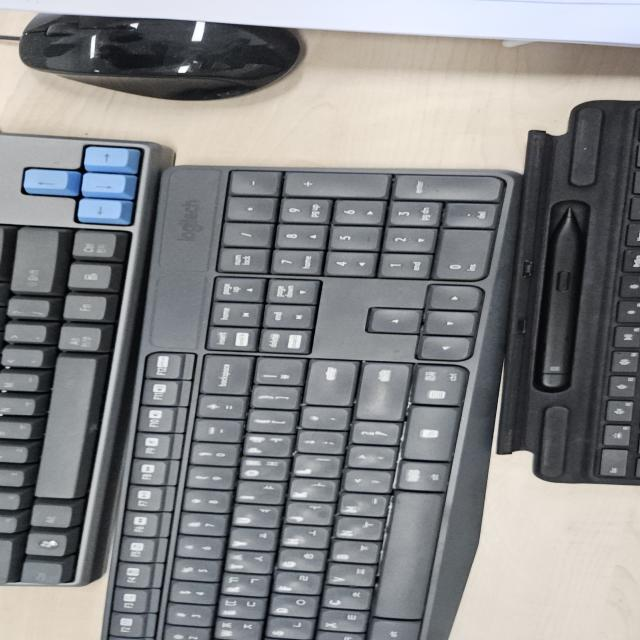Keyboard: (3, 100, 636, 638)
Mouse: (15, 11, 307, 102)
